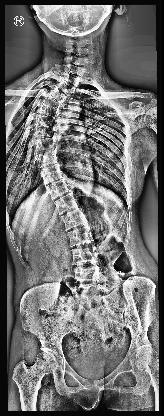Vertebrae: (71, 249, 99, 266), (67, 229, 93, 245), (37, 166, 63, 180), (73, 268, 99, 282), (54, 198, 78, 212), (61, 214, 87, 226), (55, 80, 77, 94), (34, 153, 59, 165), (31, 138, 55, 150), (44, 183, 68, 195), (48, 88, 68, 102), (38, 102, 56, 116), (61, 72, 81, 84), (35, 115, 53, 128), (44, 94, 60, 108), (34, 126, 52, 138)
